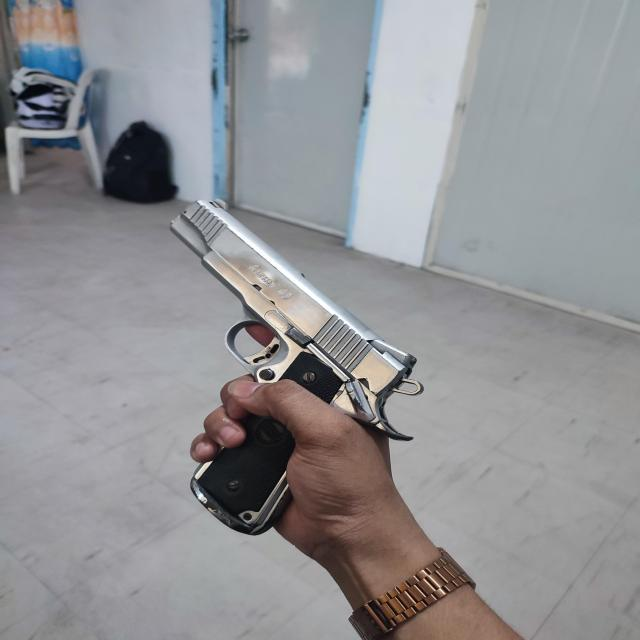pistol: (171, 198, 425, 538)
